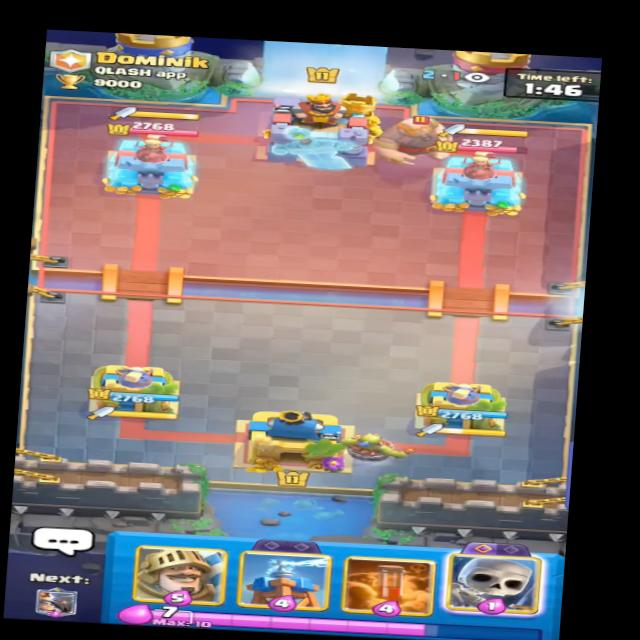giant: (367, 109, 468, 166)
